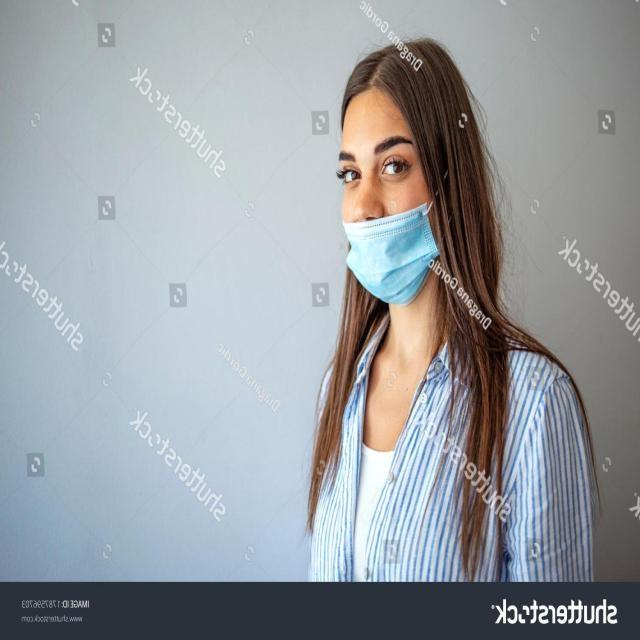hairnet: (337, 42, 475, 298)
